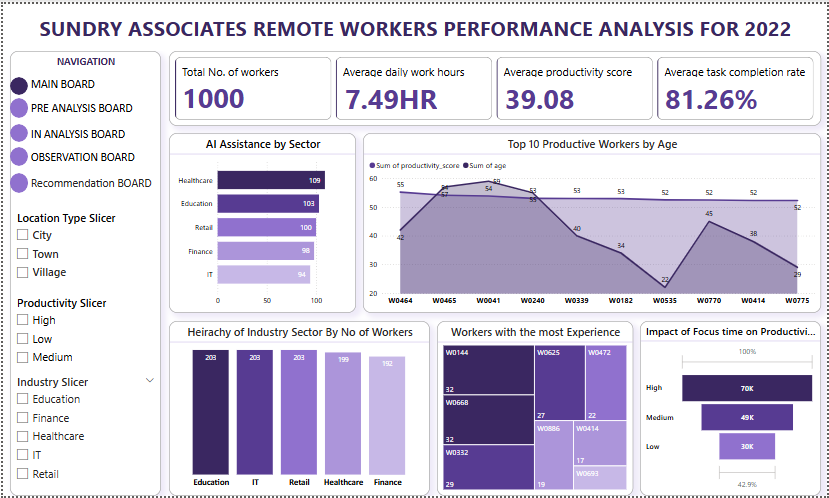

The dashboard page shown, as its layout file describes it:
{"tool":"powerbi","page":{"name":"Dashboard","canvas":[1508,900],"ordinal":0},"visuals":[{"type":"textbox","title":"NAVIGATION","box":[12.8,86,276.2,814],"z":0},{"type":"clusteredColumnChart","title":"Heirachy of Industry Sector By No of Workers","fields":{"Category":["remote_worker_productivity_1000.industry_sector"],"Y":["CountNonNull(remote_worker_productivity_1000.worker_id)"]},"box":[303.7,579.9,477.4,320.1],"z":1000},{"type":"treemap","title":"Workers with the most Experience","fields":{"Values":["Sum(remote_worker_productivity_1000.experience_years)"],"Group":["remote_worker_productivity_1000.worker_id"]},"box":[793.9,579.9,358.5,320.1],"z":2000},{"type":"funnel","title":"Impact of Focus time on Productivity","fields":{"Y":["Sum(remote_worker_productivity_1000.focus_time_minutes)"],"Category":["remote_worker_productivity_1000.productivity_label"]},"box":[1165.2,579.9,331.1,320.1],"z":3000},{"type":"lineChart","title":"Top 10 Productive Workers by Age","fields":{"Y":["Sum(remote_worker_productivity_1000.productivity_score)","Sum(remote_worker_productivity_1000.age)"],"Category":["remote_worker_productivity_1000.worker_id"]},"box":[658.5,236,837.8,329.3],"z":4000},{"type":"clusteredBarChart","title":"AI Assistance by Sector","fields":{"Category":["remote_worker_productivity_1000.industry_sector"],"Y":["Sum(remote_worker_productivity_1000.AI_assisted_planning)"]},"box":[303.7,236,342.1,329.3],"z":5000},{"type":"cardVisual","fields":{"Data":["Count(remote_worker_productivity_1000.worker_id)","Avg(remote_worker_productivity_1000.average_daily_work_hours)","Avg(remote_worker_productivity_1000.productivity_score)","Avg(remote_worker_productivity_1000.task_completion_rate)"]},"box":[303.7,86,1192.7,137.2],"z":6000},{"type":"shape","box":[620.1,133.5,188.4,75],"z":7000},{"type":"shape","box":[912.8,133.5,144.5,75],"z":8000},{"type":"shape","box":[1205.5,133.5,181.1,75],"z":9000},{"type":"textbox","box":[12.8,12.8,1483.5,73.2],"z":10000},{"type":"shape","box":[12.8,133.5,32.9,32.9],"z":11000},{"type":"shape","box":[12.8,172,32.9,36.6],"z":12000},{"type":"shape","box":[12.8,219.5,32.9,32.9],"z":13000},{"type":"shape","box":[12.8,261.6,32.9,34.8],"z":14000},{"type":"shape","box":[12.8,309.1,32.9,36.6],"z":15000},{"type":"textbox","box":[45.7,128,157.3,38.4],"z":16000},{"type":"textbox","box":[45.7,172,221.3,36.6],"z":17000},{"type":"textbox","box":[45.7,219.5,221.3,42.1],"z":17001},{"type":"textbox","box":[45.7,261.6,221.3,47.6],"z":17002},{"type":"textbox","box":[45.7,309.1,257.9,49.4],"z":17003},{"type":"slicer","fields":{"Values":["remote_worker_productivity_1000.location_type"]},"box":[12.8,371.3,276.2,155.5],"z":17004},{"type":"slicer","fields":{"Values":["remote_worker_productivity_1000.productivity_label"]},"box":[12.8,526.8,276.2,144.5],"z":17005},{"type":"slicer","fields":{"Values":["remote_worker_productivity_1000.industry_sector"]},"box":[12.8,671.3,276.2,228.7],"z":17006}]}

Visuals, with their boxes in screenshot pixels (x1, y1, x2, y2), scaled from the page's 1508x900 canvas onto the 829x498 screenshot:
"NAVIGATION" textbox: left=7, top=48, right=159, bottom=497
"Heirachy of Industry Sector By No of Workers" clusteredColumnChart: left=167, top=321, right=429, bottom=497
"Workers with the most Experience" treemap: left=436, top=321, right=634, bottom=497
"Impact of Focus time on Productivity" funnel: left=641, top=321, right=823, bottom=497
"Top 10 Productive Workers by Age" lineChart: left=362, top=131, right=823, bottom=313
"AI Assistance by Sector" clusteredBarChart: left=167, top=131, right=355, bottom=313
cardVisual - Count(remote_worker_productivity_1000.worker_id) x Avg(remote_worker_productivity_1000.average_daily_work_hours): left=167, top=48, right=823, bottom=124
shape: left=341, top=74, right=444, bottom=115
shape: left=502, top=74, right=581, bottom=115
shape: left=663, top=74, right=762, bottom=115
textbox: left=7, top=7, right=823, bottom=48
shape: left=7, top=74, right=25, bottom=92
shape: left=7, top=95, right=25, bottom=115
shape: left=7, top=121, right=25, bottom=140
shape: left=7, top=145, right=25, bottom=164
shape: left=7, top=171, right=25, bottom=191
textbox: left=25, top=71, right=112, bottom=92
textbox: left=25, top=95, right=147, bottom=115
textbox: left=25, top=121, right=147, bottom=145
textbox: left=25, top=145, right=147, bottom=171
textbox: left=25, top=171, right=167, bottom=198
slicer - remote_worker_productivity_1000.location_type: left=7, top=205, right=159, bottom=291
slicer - remote_worker_productivity_1000.productivity_label: left=7, top=291, right=159, bottom=371
slicer - remote_worker_productivity_1000.industry_sector: left=7, top=371, right=159, bottom=497
